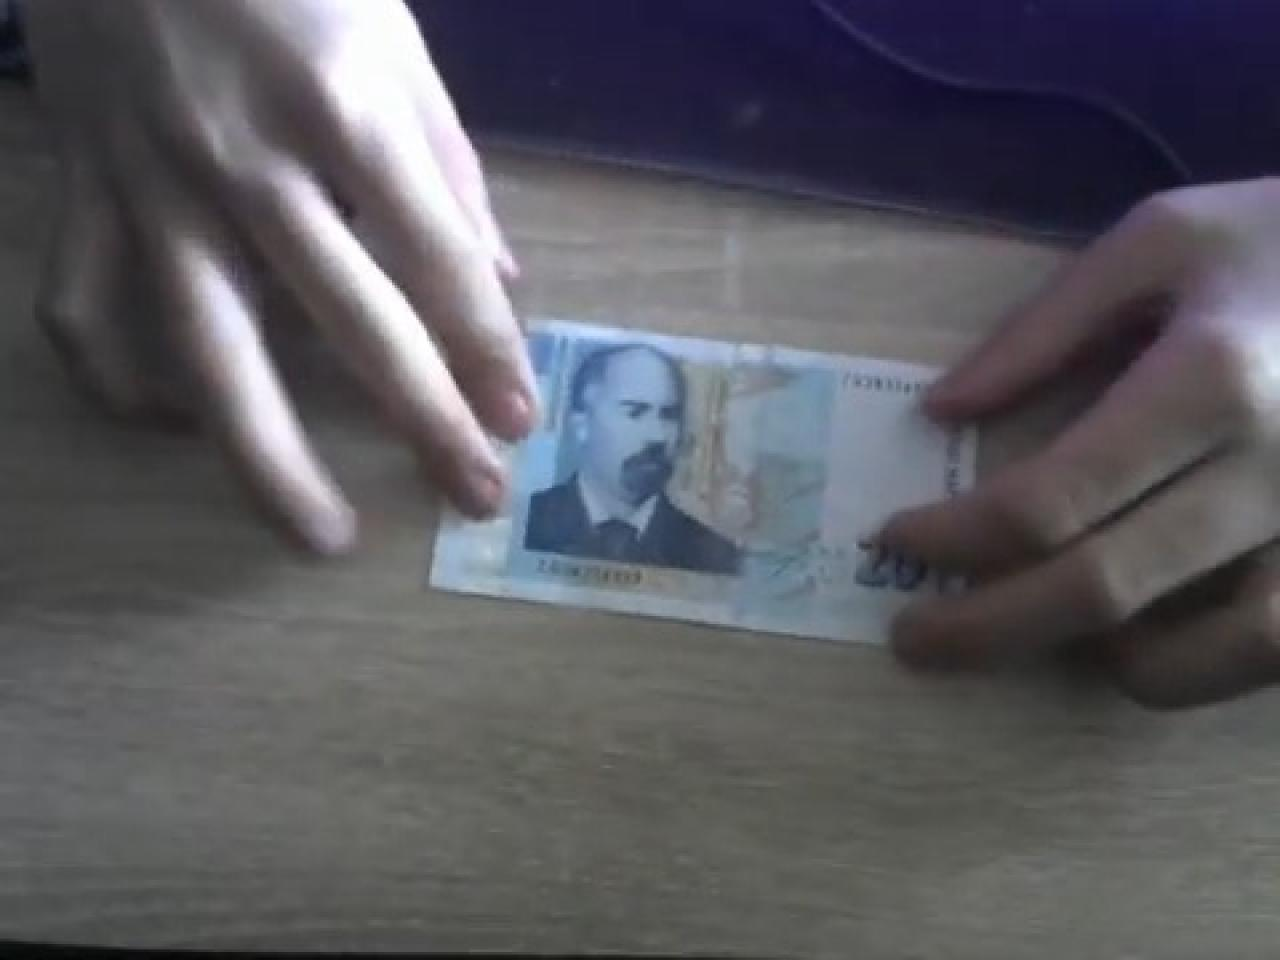20leva: (520, 339, 747, 579)
